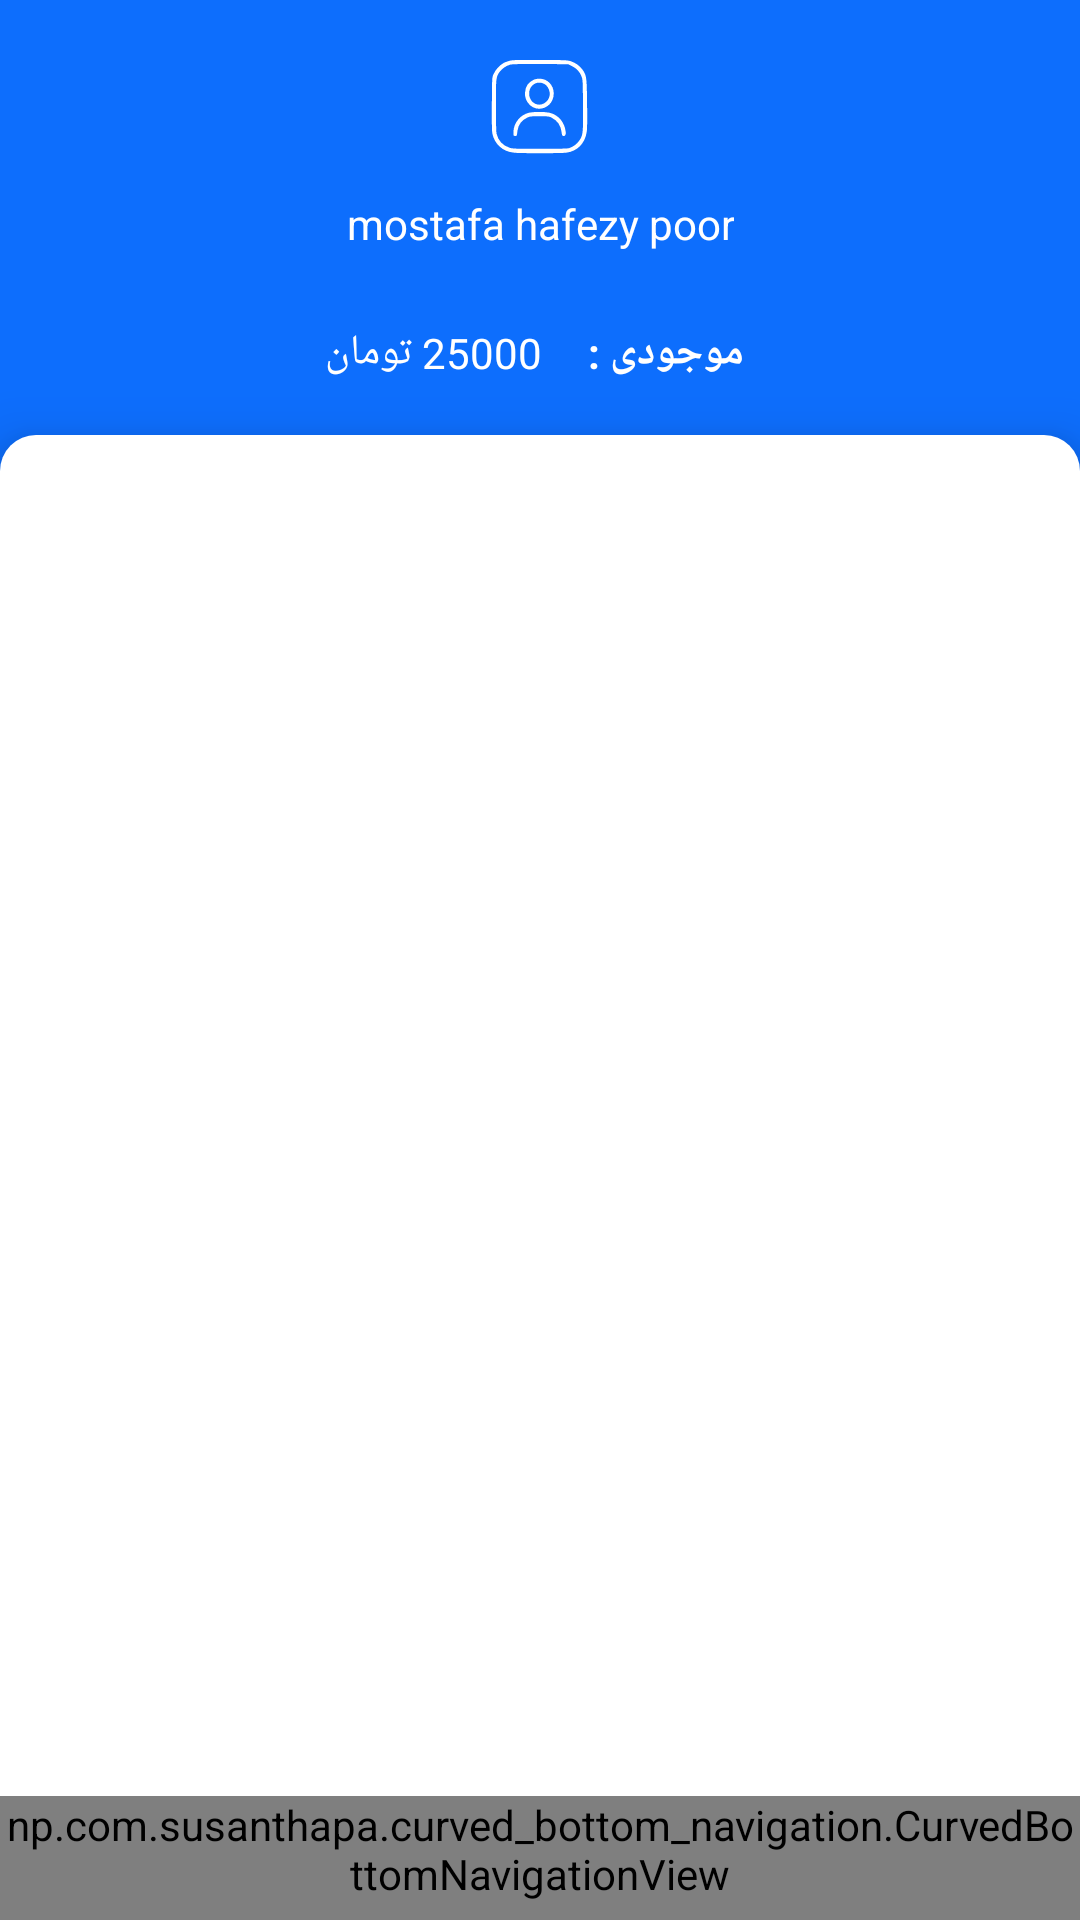

Icons on this 1080*1920 Android screen, each with the point to tap as point (x, y):
square user round: point (539, 107)
